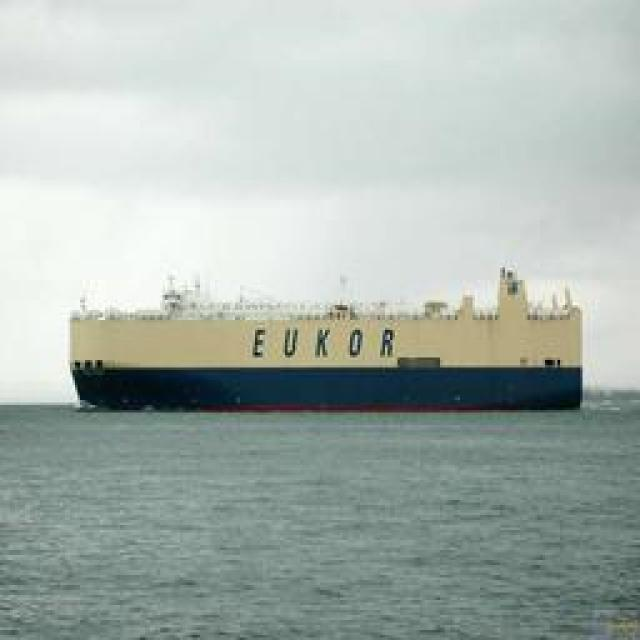CIV_Ship: (79, 284, 584, 414)
